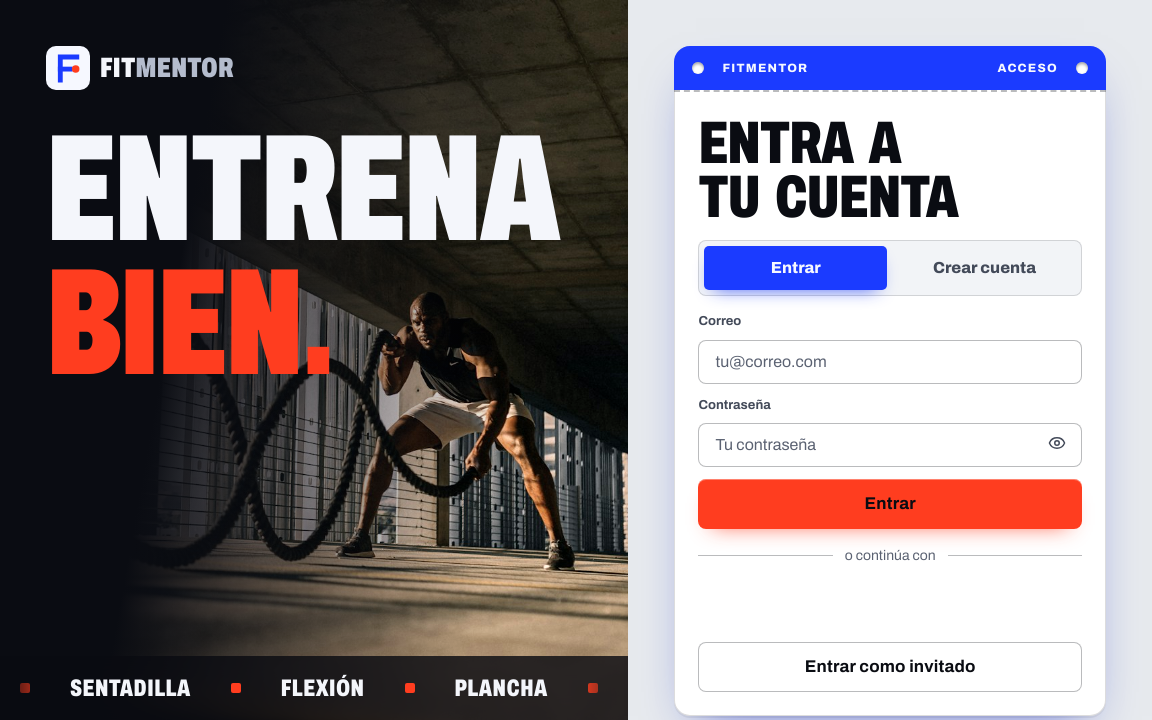
Test: Pantalla de acceso › permite cambiar entre entrar y crear cuenta
The image size is (1152, 720).
Click the tab "Crear cuenta".
click(985, 268)  # box x1=893 y1=246 x2=1076 y2=290
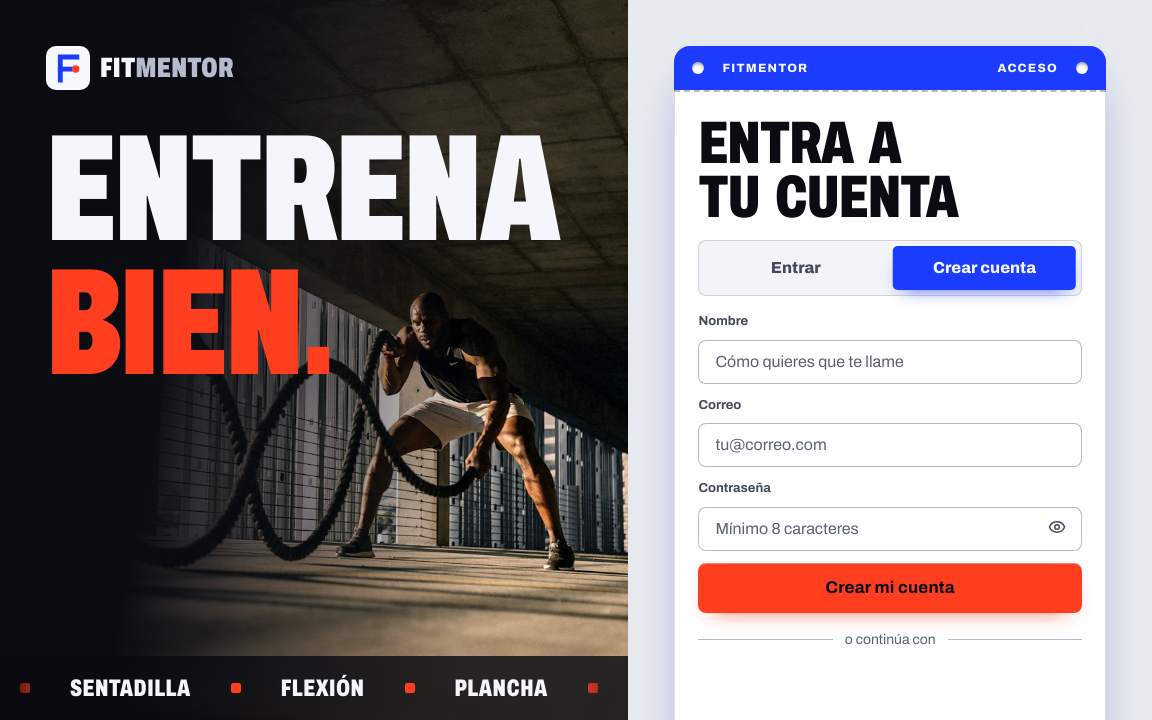
Expected: the field labelled "Nombre" is shown, x1=698 y1=340 x2=1082 y2=384
Expected: the button "Crear mi cuenta" is shown, x1=698 y1=563 x2=1082 y2=613
